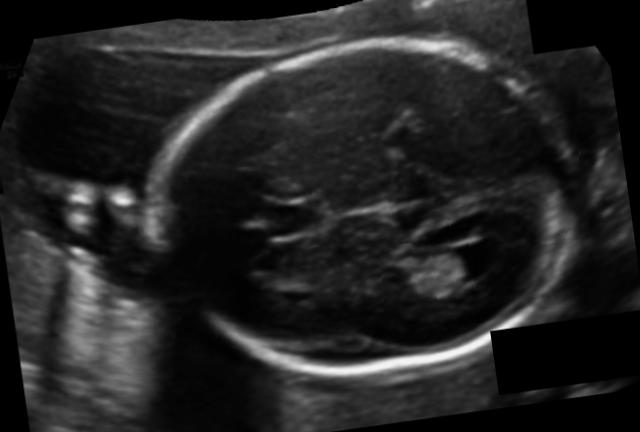CHOROID_PLEXUS: (376, 233, 492, 320)
CSP: (228, 179, 319, 258)
MIDLINE_FALX: (187, 122, 590, 290)
